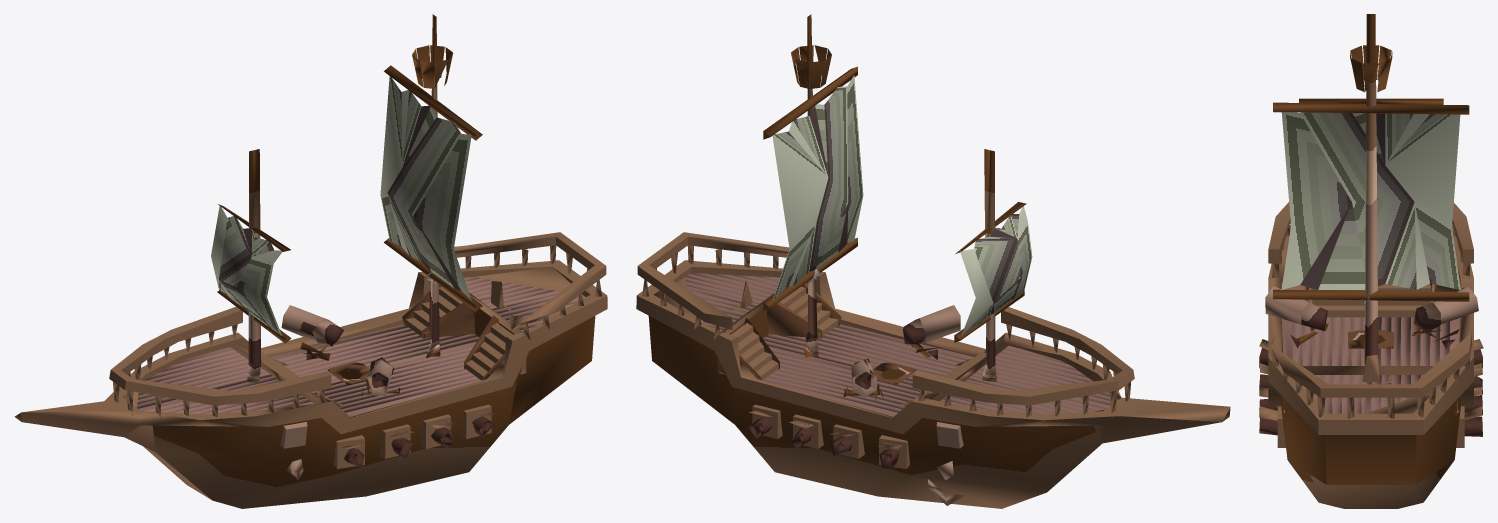
File: Ship_Large.low.gltf
3 renders of one model, left to right at view 1: azimuth 30°, elevation 25°; view 2: azimuth 150°, elevation 25°; view 3: azimuth 270°, elevation 25°, orthographic. The views are drawn at different scales.
Parts seen in each view (by area): view 1: Ship_Large; view 2: Ship_Large; view 3: Ship_Large.
Part boxes in pixels (bbox=[...]): Ship_Large: bbox=[14, 14, 607, 508]; Ship_Large: bbox=[636, 14, 1230, 508]; Ship_Large: bbox=[1259, 14, 1483, 508].
Size of the model in its own units: 15.39 by 11.48 by 4.84.
1 material, 1 textured.
